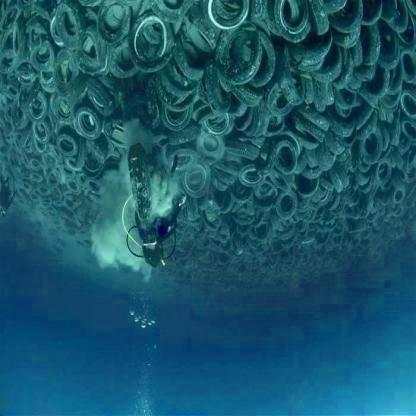tire: (186, 0, 415, 239), (1, 3, 186, 151), (2, 150, 102, 242)
